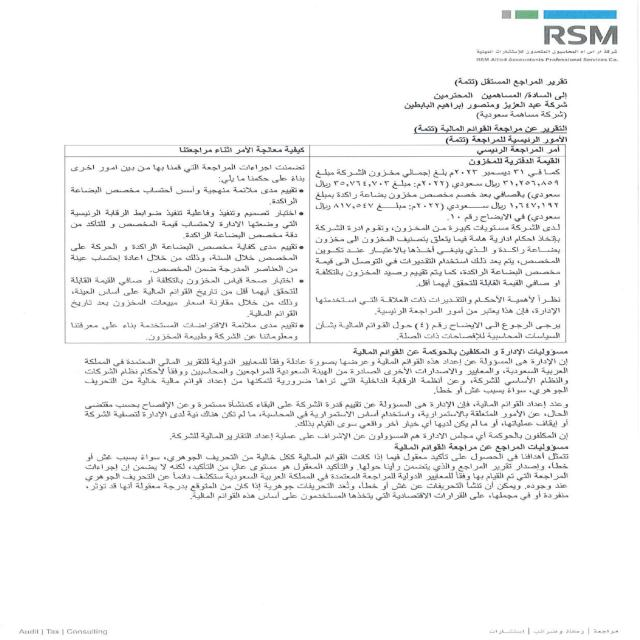auditor_report: (444, 74, 568, 90)
